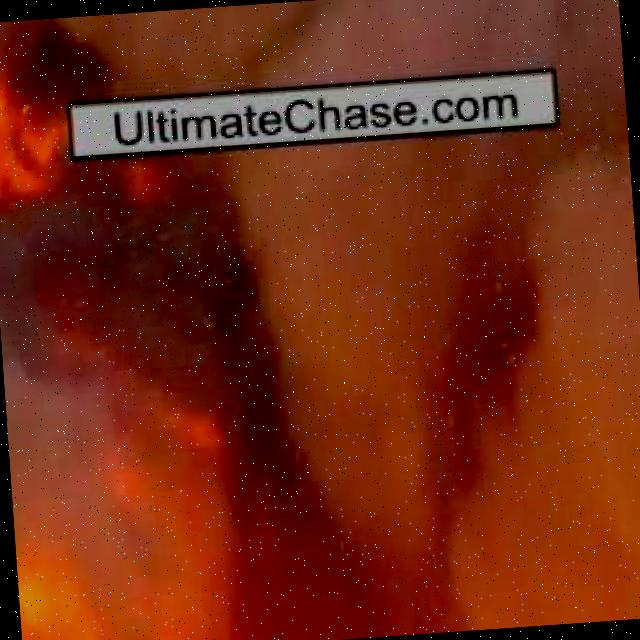fire: (0, 25, 170, 233), (13, 511, 113, 640)
